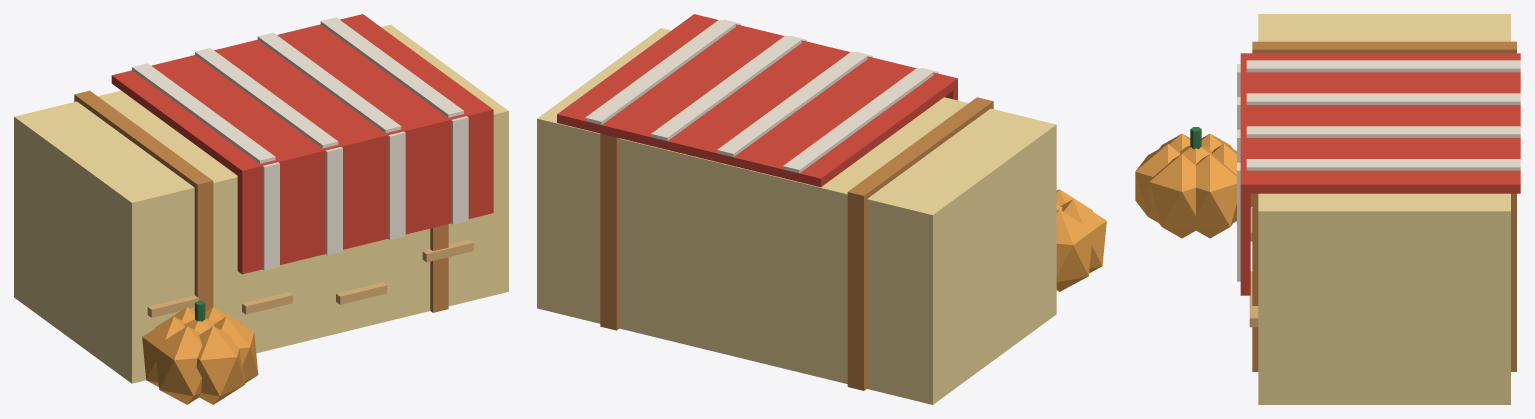
The model's file is CatCafe_Decor_HayBaleSeat.glb.
3 views of the same model, side by side, from view 1: azimuth 30°, elevation 25°; view 2: azimuth 150°, elevation 25°; view 3: azimuth 270°, elevation 25° (orthographic). The views are drawn at different scales.
Visible parts, largest first — view 1: CatCafe_Decor_HayBaleSeat; view 2: CatCafe_Decor_HayBaleSeat; view 3: CatCafe_Decor_HayBaleSeat.
Boxes of the visible parts, left/top/right/bottom form: CatCafe_Decor_HayBaleSeat: left=14, top=14, right=508, bottom=404; CatCafe_Decor_HayBaleSeat: left=537, top=14, right=1106, bottom=404; CatCafe_Decor_HayBaleSeat: left=1135, top=14, right=1520, bottom=404.
Bounding box in the file's own units: 2.45 × 1.2 × 1.98.
1 material, 1 textured.
